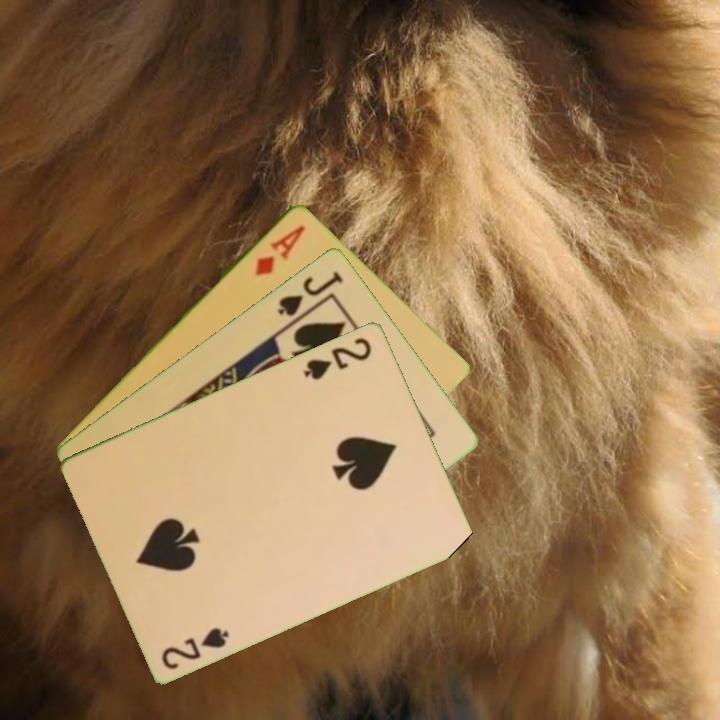2s: (300, 333, 375, 383), (158, 623, 233, 672)
Ad: (251, 220, 309, 279)
Js: (273, 267, 347, 319)
